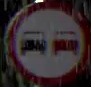No overtake: (6, 0, 87, 86)
